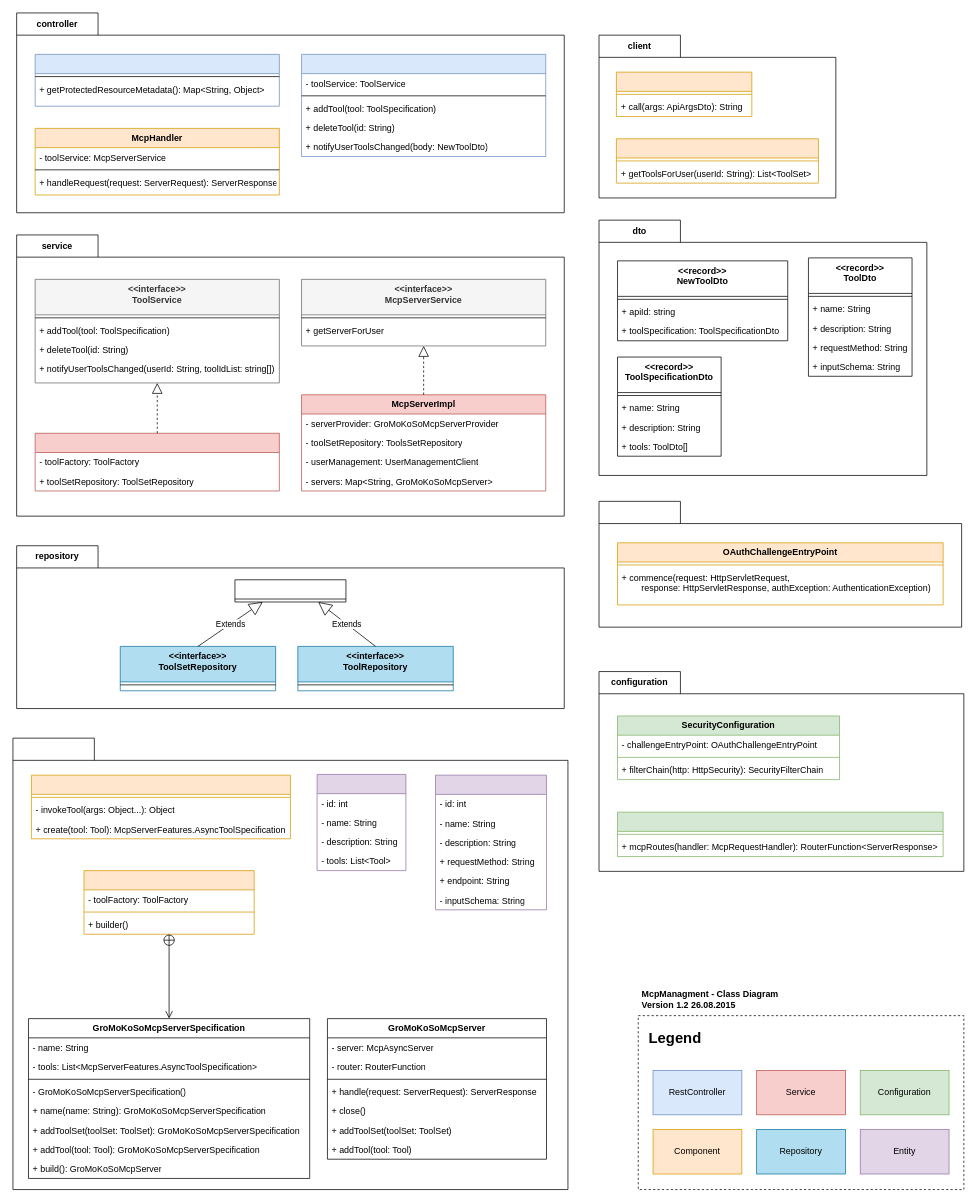
The diagram is 977 pixels wide and 1203 high, and some of its shapes have lost their labels. The shapes that lost their labels are listed below. From the top down, each one's box as (x1, y1, x2, y2) in pixels, then its label:
(34, 54, 279, 106): WellKnownMetadataContoller
(616, 71, 752, 117): ApiManagement
(301, 54, 546, 157): ToolController
(616, 138, 818, 183): UserManagementClient
(34, 433, 279, 491): ToolServiceImpl
(598, 501, 962, 627): security
(234, 579, 346, 602): CrudRepository
(31, 774, 290, 839): ToolFactory
(316, 774, 406, 871): ToolSet
(435, 774, 546, 910): Tool
(617, 811, 943, 857): McpRouterConfiguration
(83, 870, 254, 934): GroMoKoSoMcpServerProvider
(12, 737, 568, 1190): model
